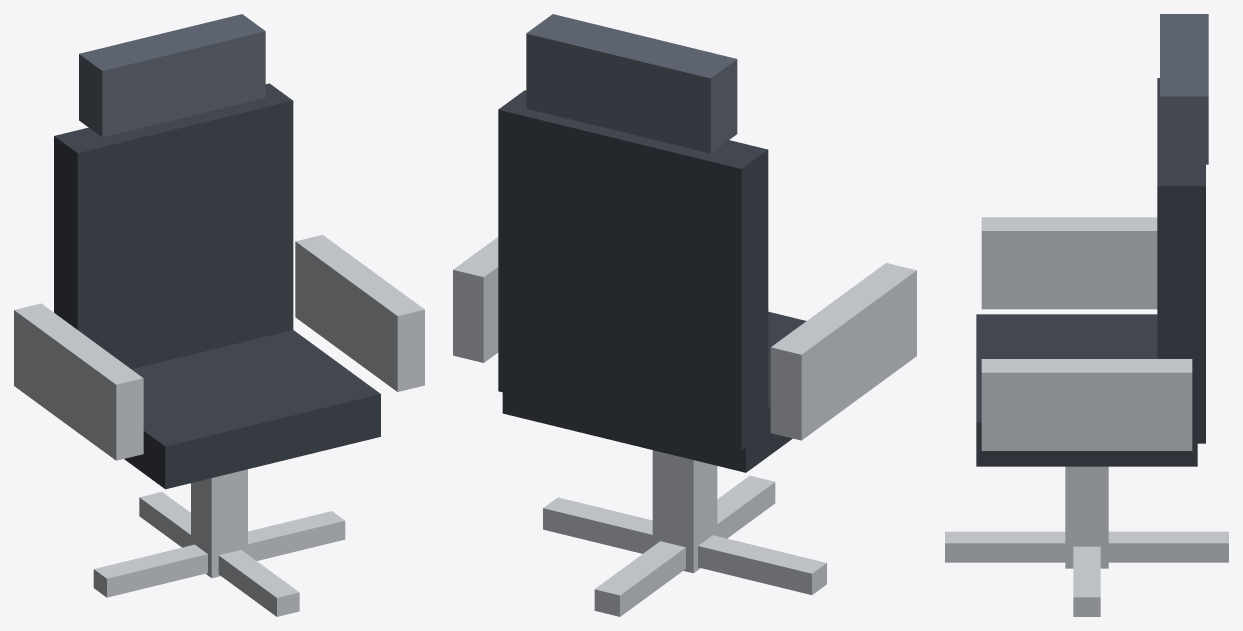
Rendered from executive_chair.glb.
The picture shows the model from 3 angles, left to right: view 1: azimuth 30°, elevation 25°; view 2: azimuth 150°, elevation 25°; view 3: azimuth 270°, elevation 25°; orthographic projection. The views are drawn at different scales.
Parts seen in each view (by area): view 1: back, seat, headrest, left_arm, right_arm, base_cross_x, base_cross_z, base_post; view 2: back, headrest, left_arm, base_cross_x, seat, base_cross_z, base_post, right_arm; view 3: right_arm, left_arm, seat, back, base_cross_z, headrest, base_post, base_cross_x.
Part boxes in pixels (bbox=[...]): back: bbox=[54, 83, 293, 369]; seat: bbox=[124, 330, 380, 489]; headrest: bbox=[79, 14, 265, 137]; left_arm: bbox=[14, 303, 143, 460]; right_arm: bbox=[295, 235, 424, 391]; base_cross_x: bbox=[93, 511, 345, 597]; base_cross_z: bbox=[139, 492, 299, 616]; base_post: bbox=[191, 469, 247, 578]; back: bbox=[498, 90, 768, 450]; headrest: bbox=[526, 14, 737, 153]; left_arm: bbox=[770, 263, 916, 440]; base_cross_x: bbox=[543, 497, 826, 594]; seat: bbox=[502, 311, 806, 472]; base_cross_z: bbox=[594, 475, 775, 616]; base_post: bbox=[652, 450, 717, 573]; right_arm: bbox=[453, 237, 498, 362]; right_arm: bbox=[981, 359, 1192, 450]; left_arm: bbox=[981, 217, 1157, 309]; seat: bbox=[976, 314, 1197, 466]; back: bbox=[1157, 78, 1205, 443]; base_cross_z: bbox=[945, 531, 1228, 562]; headrest: bbox=[1160, 14, 1208, 164]; base_post: bbox=[1065, 466, 1108, 568]; base_cross_x: bbox=[1073, 546, 1100, 616].
Bounding box in the file's own units: 1.36 × 2.06 × 1.05.
